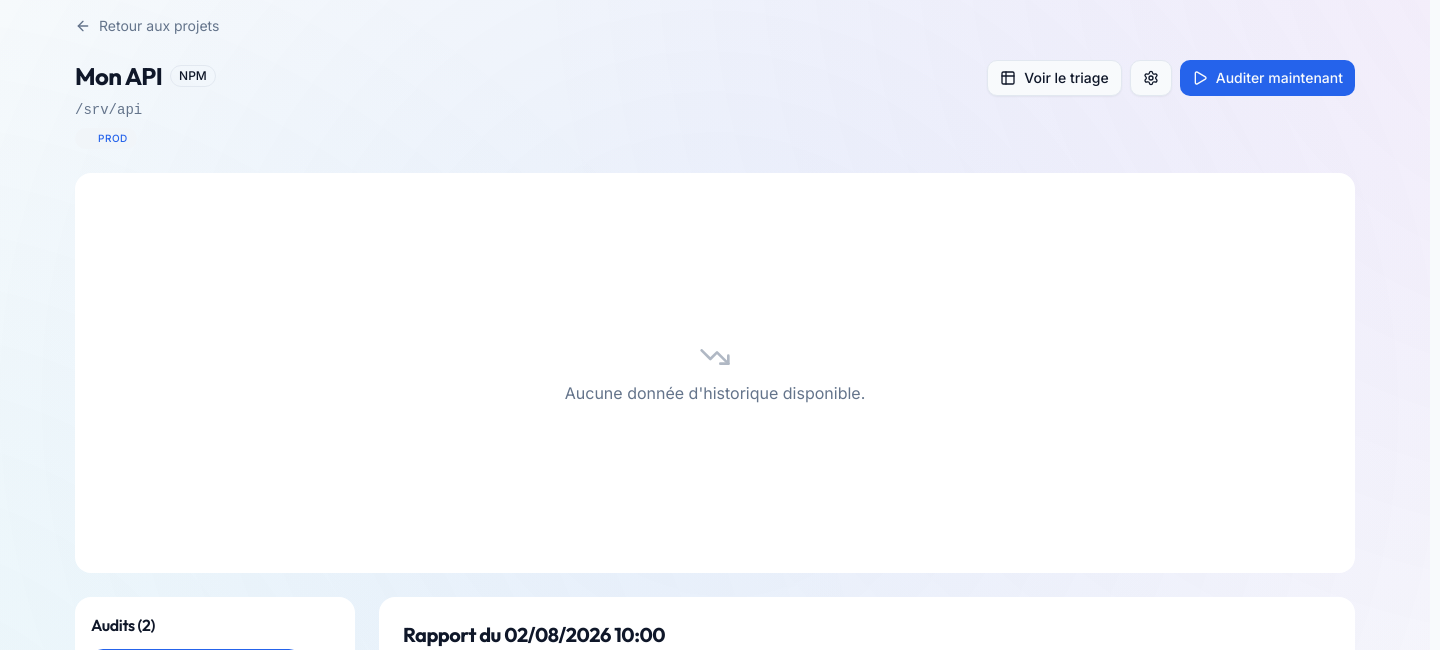
Scenario: ProjectDetail › un refus de l'audit remonte le message du serveur
Check: the heading "Mon API" is shown, box [75,60,162,92]
Click the button "Auditer maintenant" at (1267, 78), box [1180,60,1355,96]
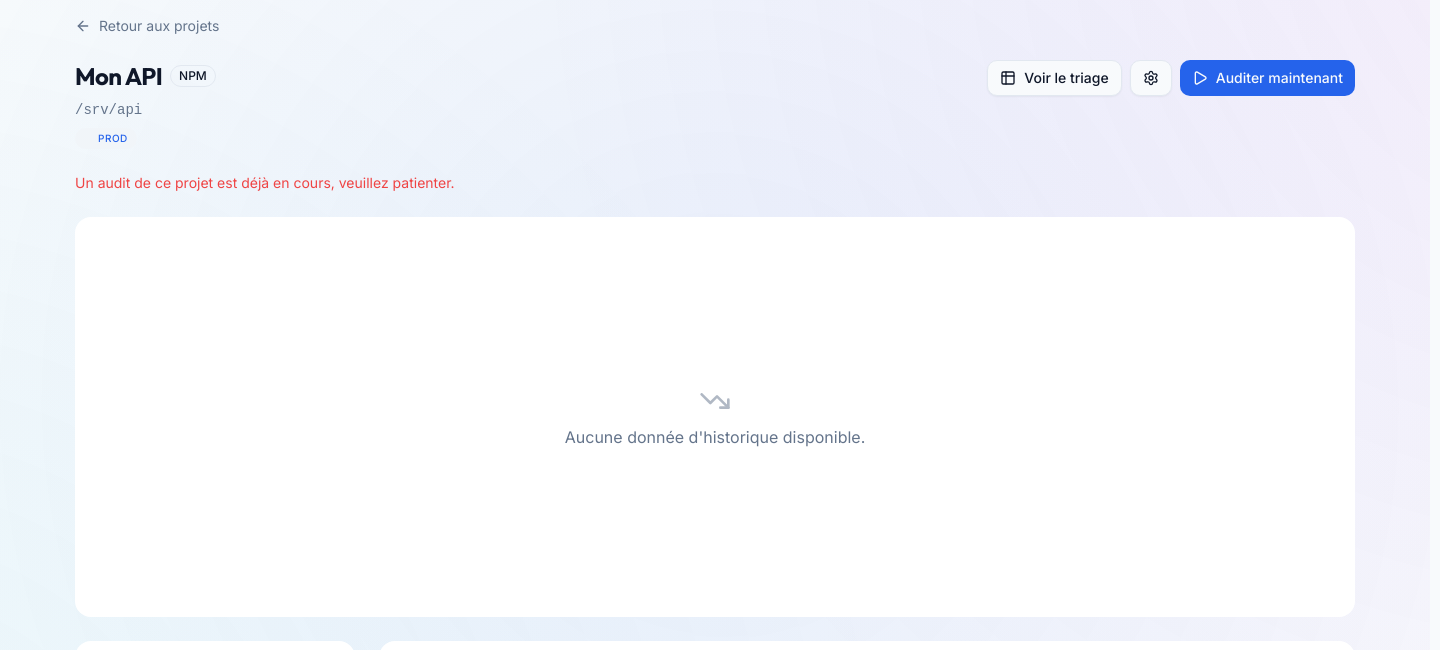
Check: the text "Un audit de ce projet est déjà en cours, veuillez patienter." is shown, box [75,174,455,191]
